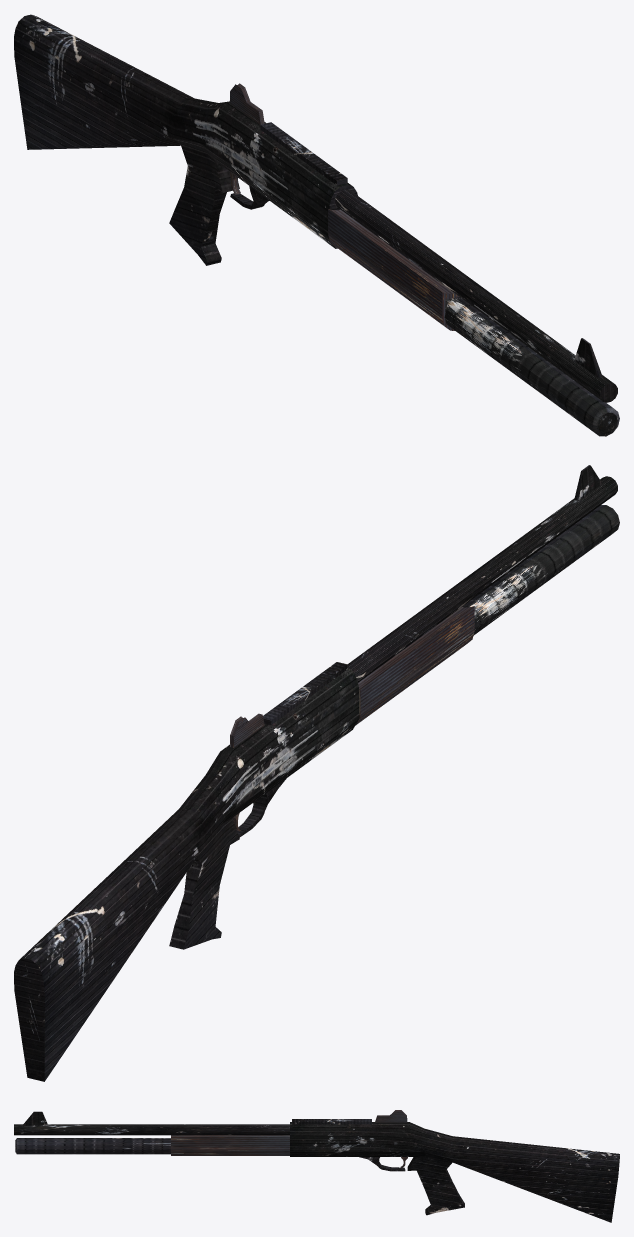
The model's file is AutoShotGun.fbx.
3 views of the same model, one above another, from view 1: azimuth 30°, elevation 25°; view 2: azimuth 150°, elevation 25°; view 3: azimuth 270°, elevation 25° (orthographic). The views are drawn at different scales.
Parts seen in each view (by area): view 1: AutoShotGun; view 2: AutoShotGun; view 3: AutoShotGun.
Boxes of the visible parts, <box> form: AutoShotGun: <box>14,14,619,436</box>; AutoShotGun: <box>14,465,619,1081</box>; AutoShotGun: <box>14,1110,619,1222</box>.
Bounding box in the file's own units: 2.62 × 16.38 × 81.58.
Materials: 2 (2 with a texture image).
